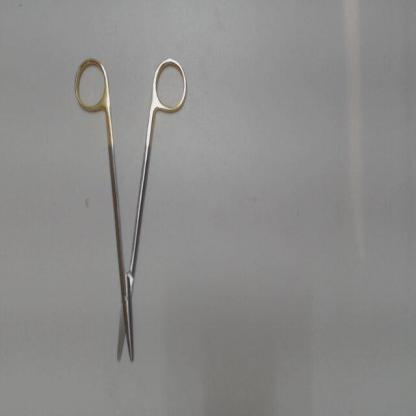7 Metzenbaum Scissors: (71, 52, 190, 370)
